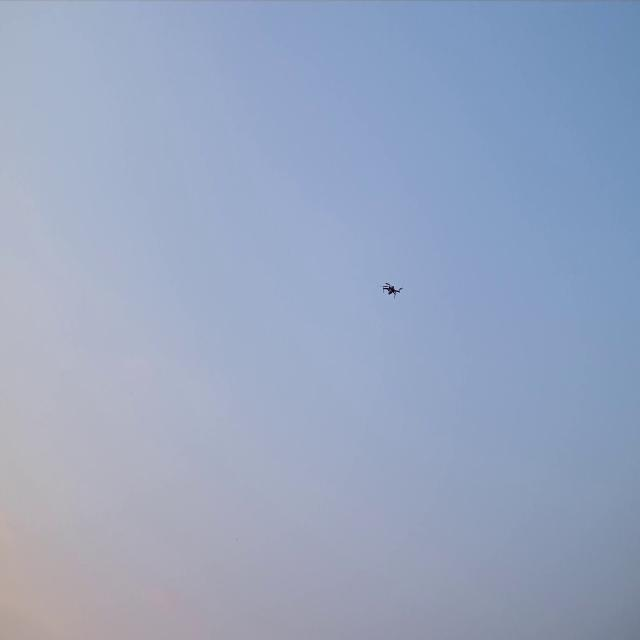UAV: (383, 283, 401, 297)
